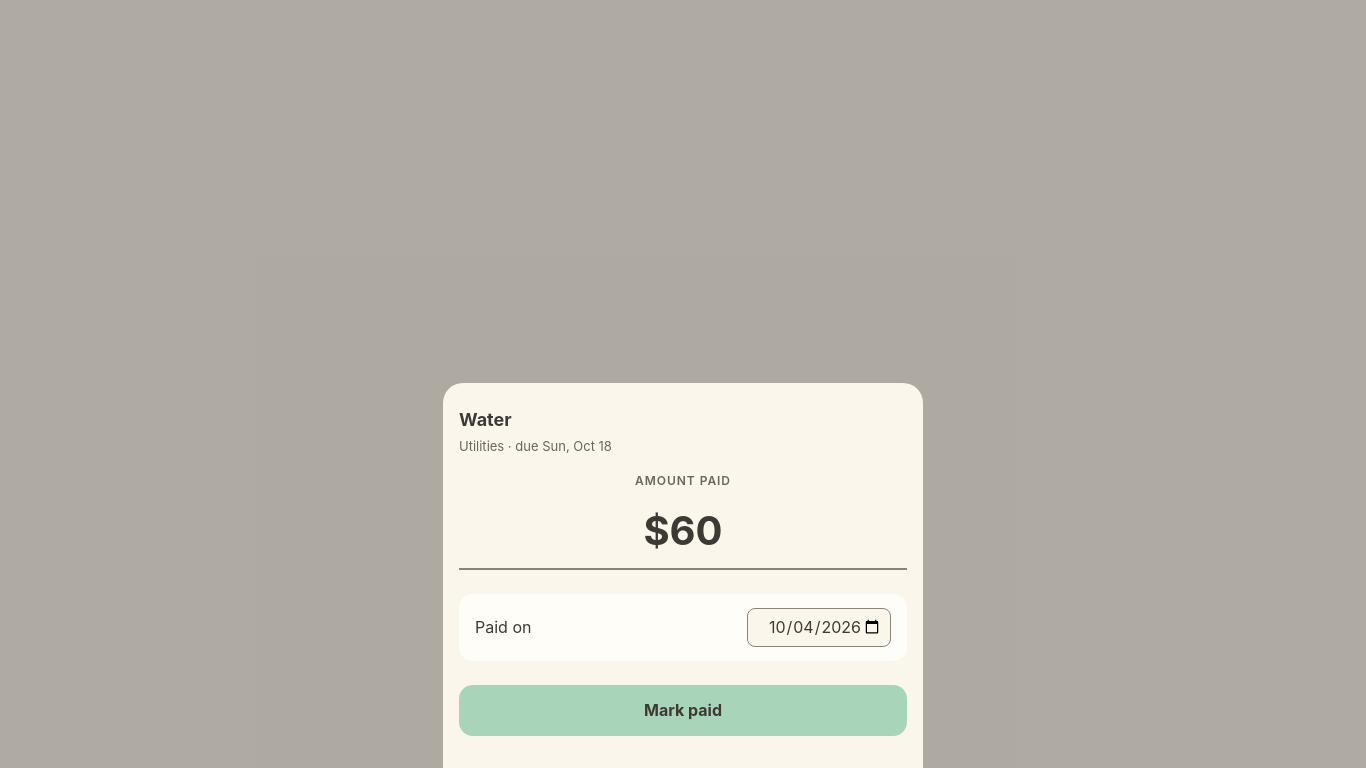
Scenario: PaySheet › if the bill update fails, no payment is recorded and a calm error shows
Clear the field labelled "Amount paid": (683,532) [459,494,907,570]
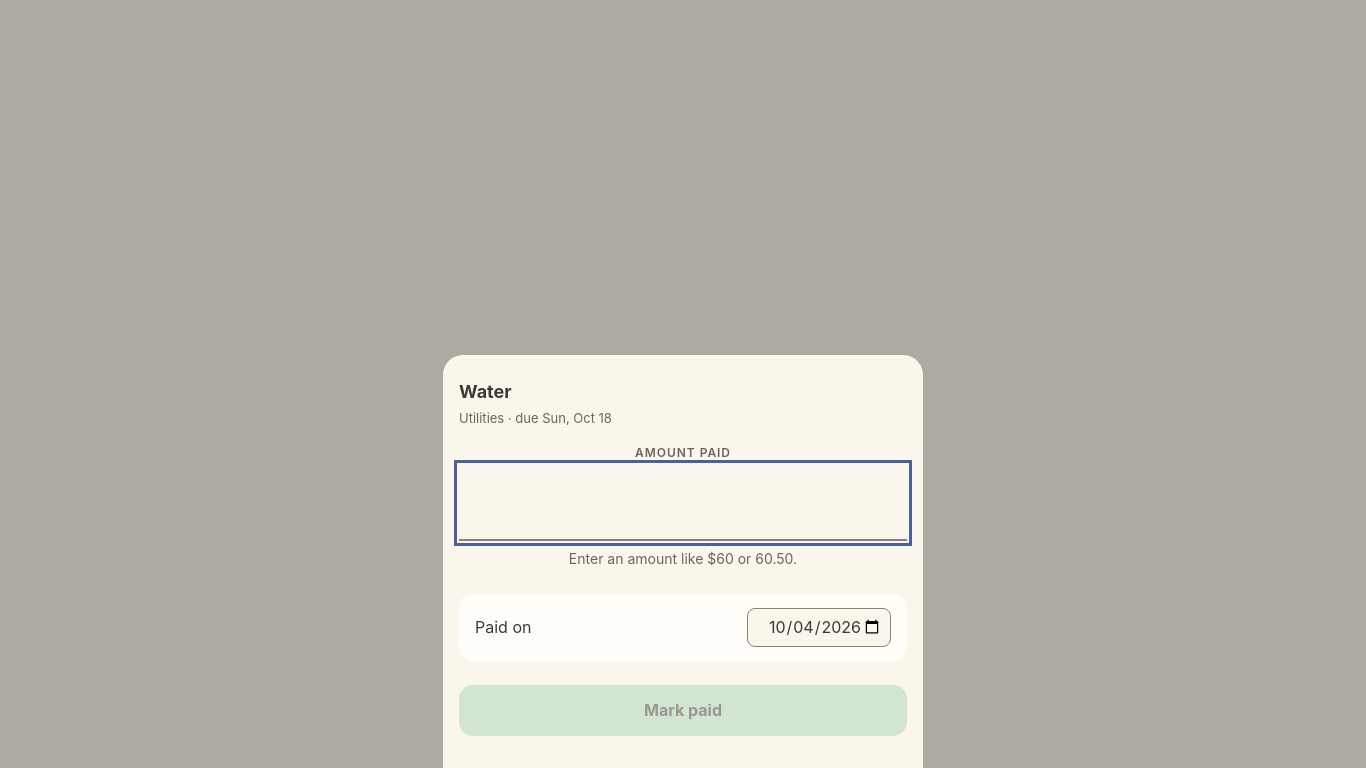
In the field labelled "Amount paid": (683,503) [459,465,907,541], type "72"
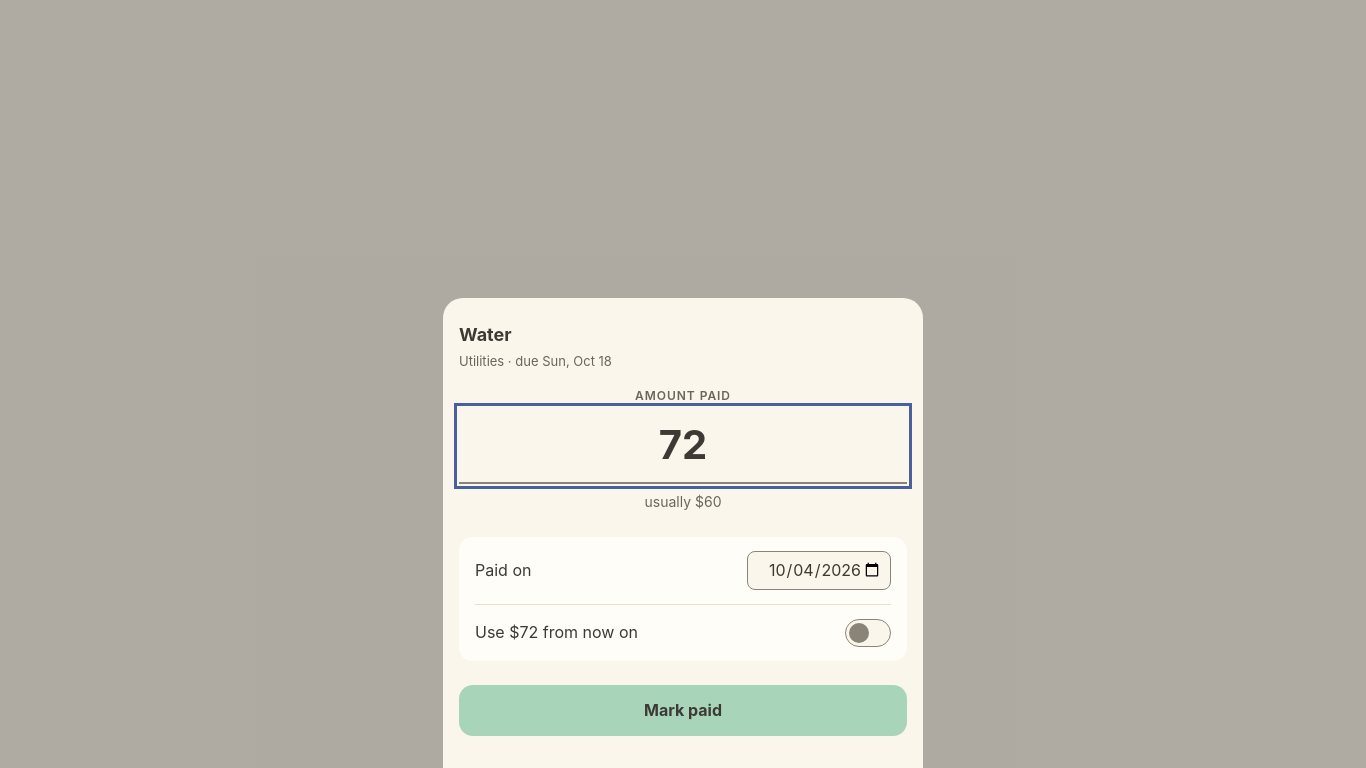
Click the switch: (868,633) [845,619,891,647]
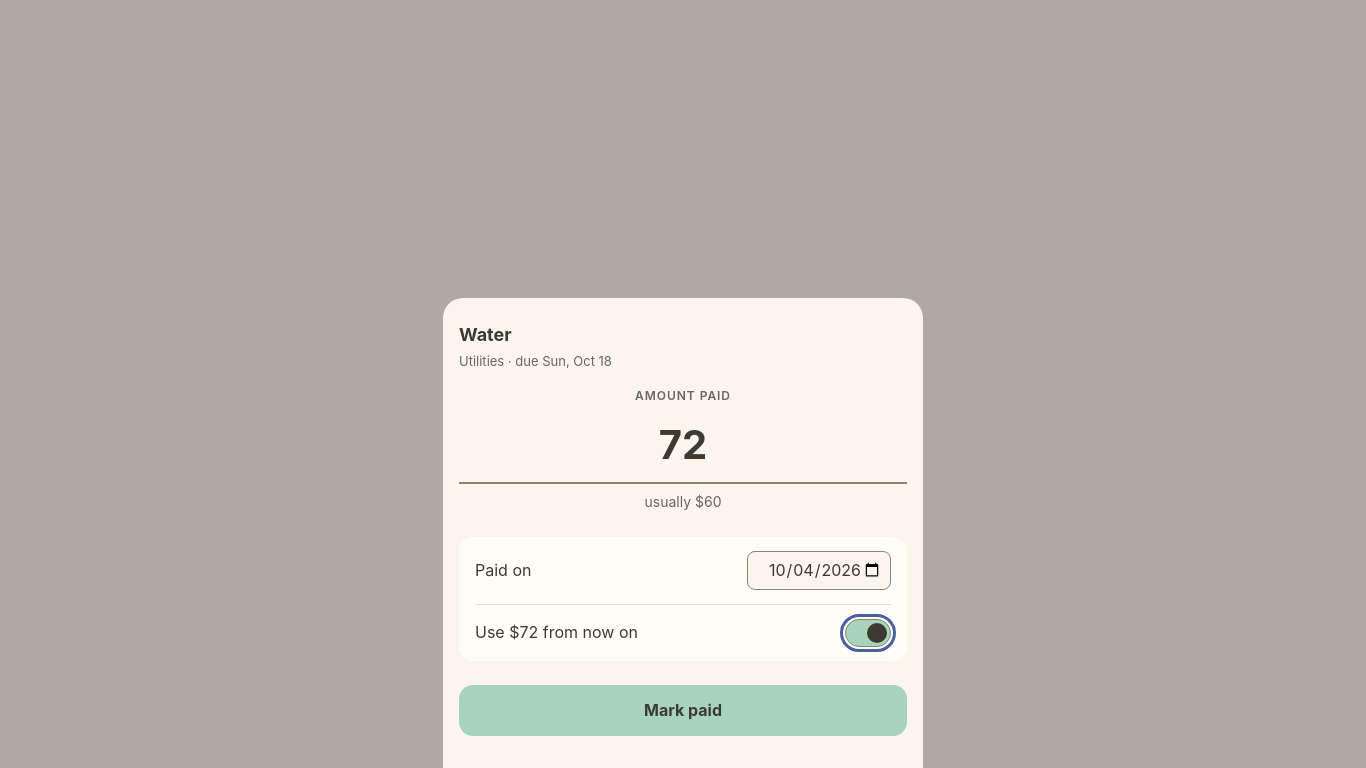
Click the button "Mark paid": (683,710) [459,685,907,736]
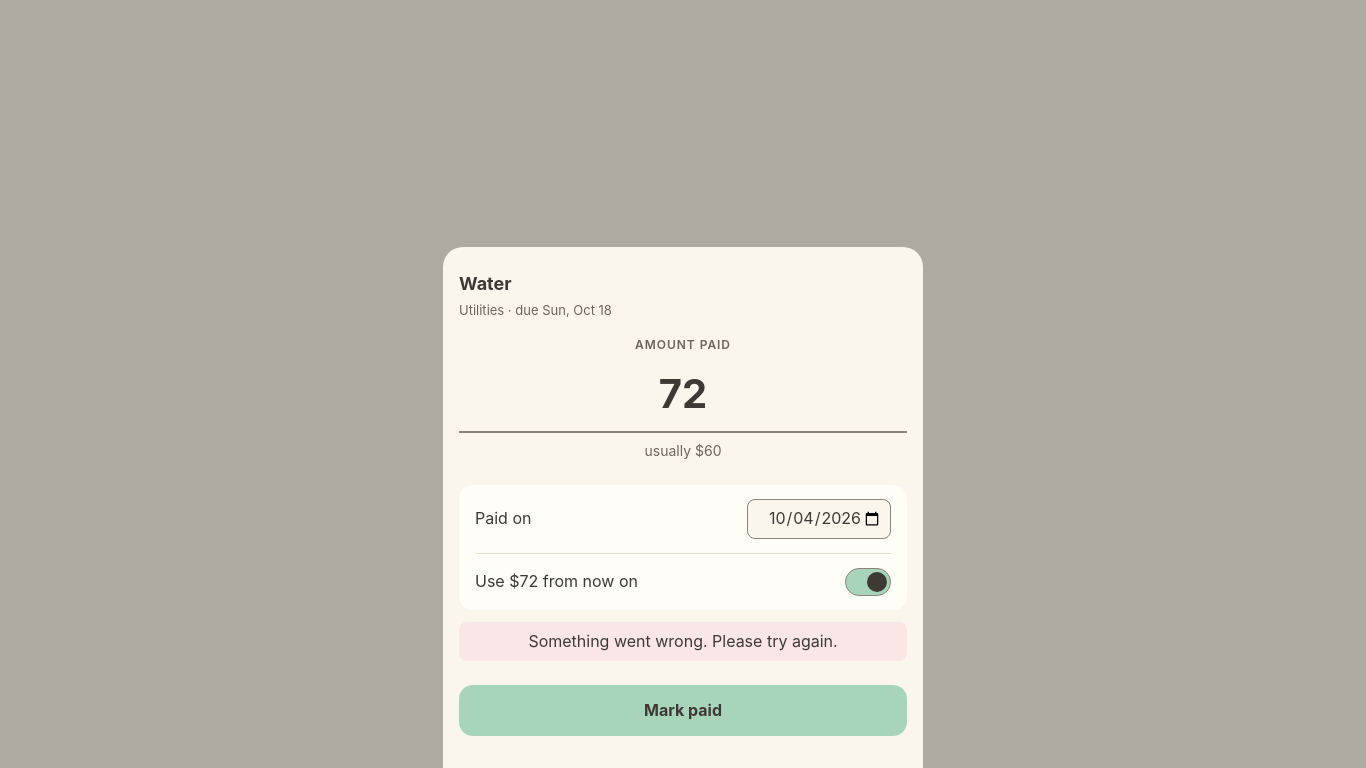
expect the message reads "Something went wrong. Please try again.": met, box [528,631,838,651]
